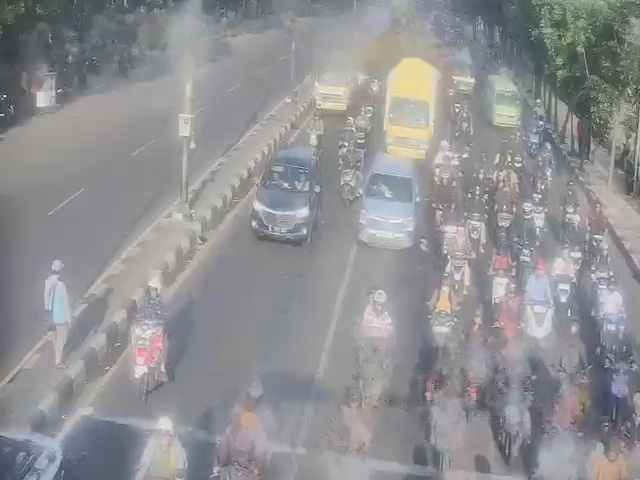Mobil: (253, 129, 316, 240), (358, 151, 415, 245)
Motor: (366, 338, 393, 414), (130, 331, 160, 397), (432, 399, 458, 468), (602, 303, 632, 353), (499, 383, 521, 451), (528, 296, 551, 353), (537, 439, 566, 479), (430, 307, 453, 357), (435, 151, 453, 206), (611, 368, 634, 408), (554, 270, 574, 315), (525, 203, 546, 245), (554, 379, 572, 423), (492, 269, 507, 314), (495, 209, 511, 250), (591, 231, 607, 266), (446, 222, 461, 258), (220, 459, 243, 480), (451, 251, 463, 287), (469, 215, 483, 245), (563, 205, 580, 229), (338, 167, 352, 194), (530, 124, 541, 154), (360, 127, 371, 153), (36, 92, 56, 106), (573, 245, 583, 271), (534, 180, 541, 205), (343, 133, 351, 153), (312, 134, 319, 148)
Truk: (384, 60, 439, 156)
